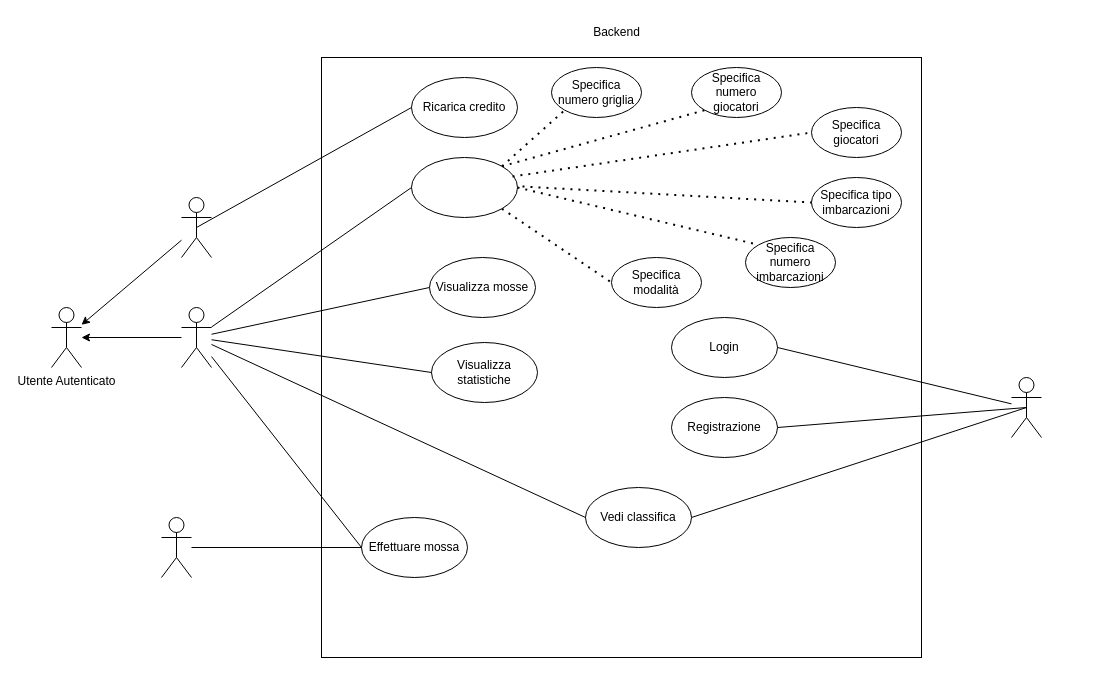
Some shapes in this 1104 by 675 pixel diagram are drawn without their labels. Here are the shapes that lost their labels. From the top down, the box of each, then its label:
(410, 156, 518, 218): Crea game
(180, 196, 212, 258): Admin
(180, 306, 212, 368): Utente
(1010, 376, 1042, 438): Utente non Autenticato
(160, 516, 192, 578): AI
